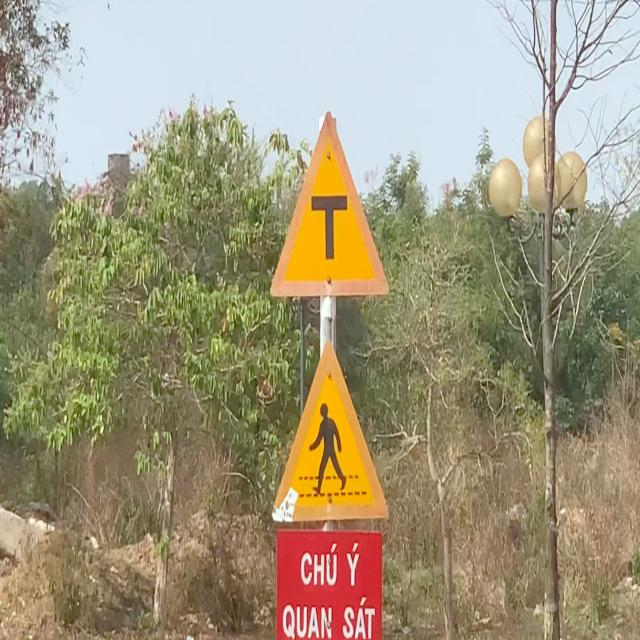Duong giao nhau: (266, 101, 394, 309)
Nguoi di bo cat ngang: (266, 334, 393, 532)
